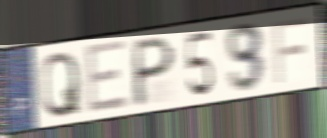5: (184, 28, 216, 97)
9: (224, 20, 268, 94)
E: (83, 38, 131, 119)
F: (271, 14, 312, 86)
P: (131, 33, 177, 109)
Q: (40, 48, 83, 120)
